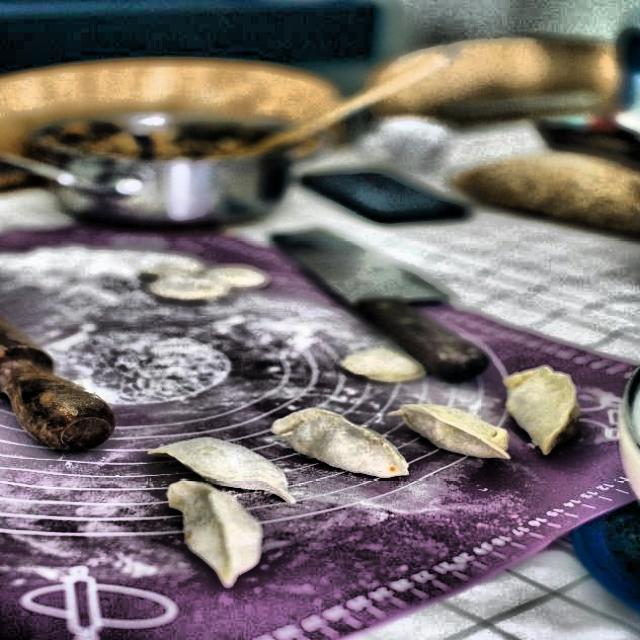knife: (271, 227, 508, 390)
